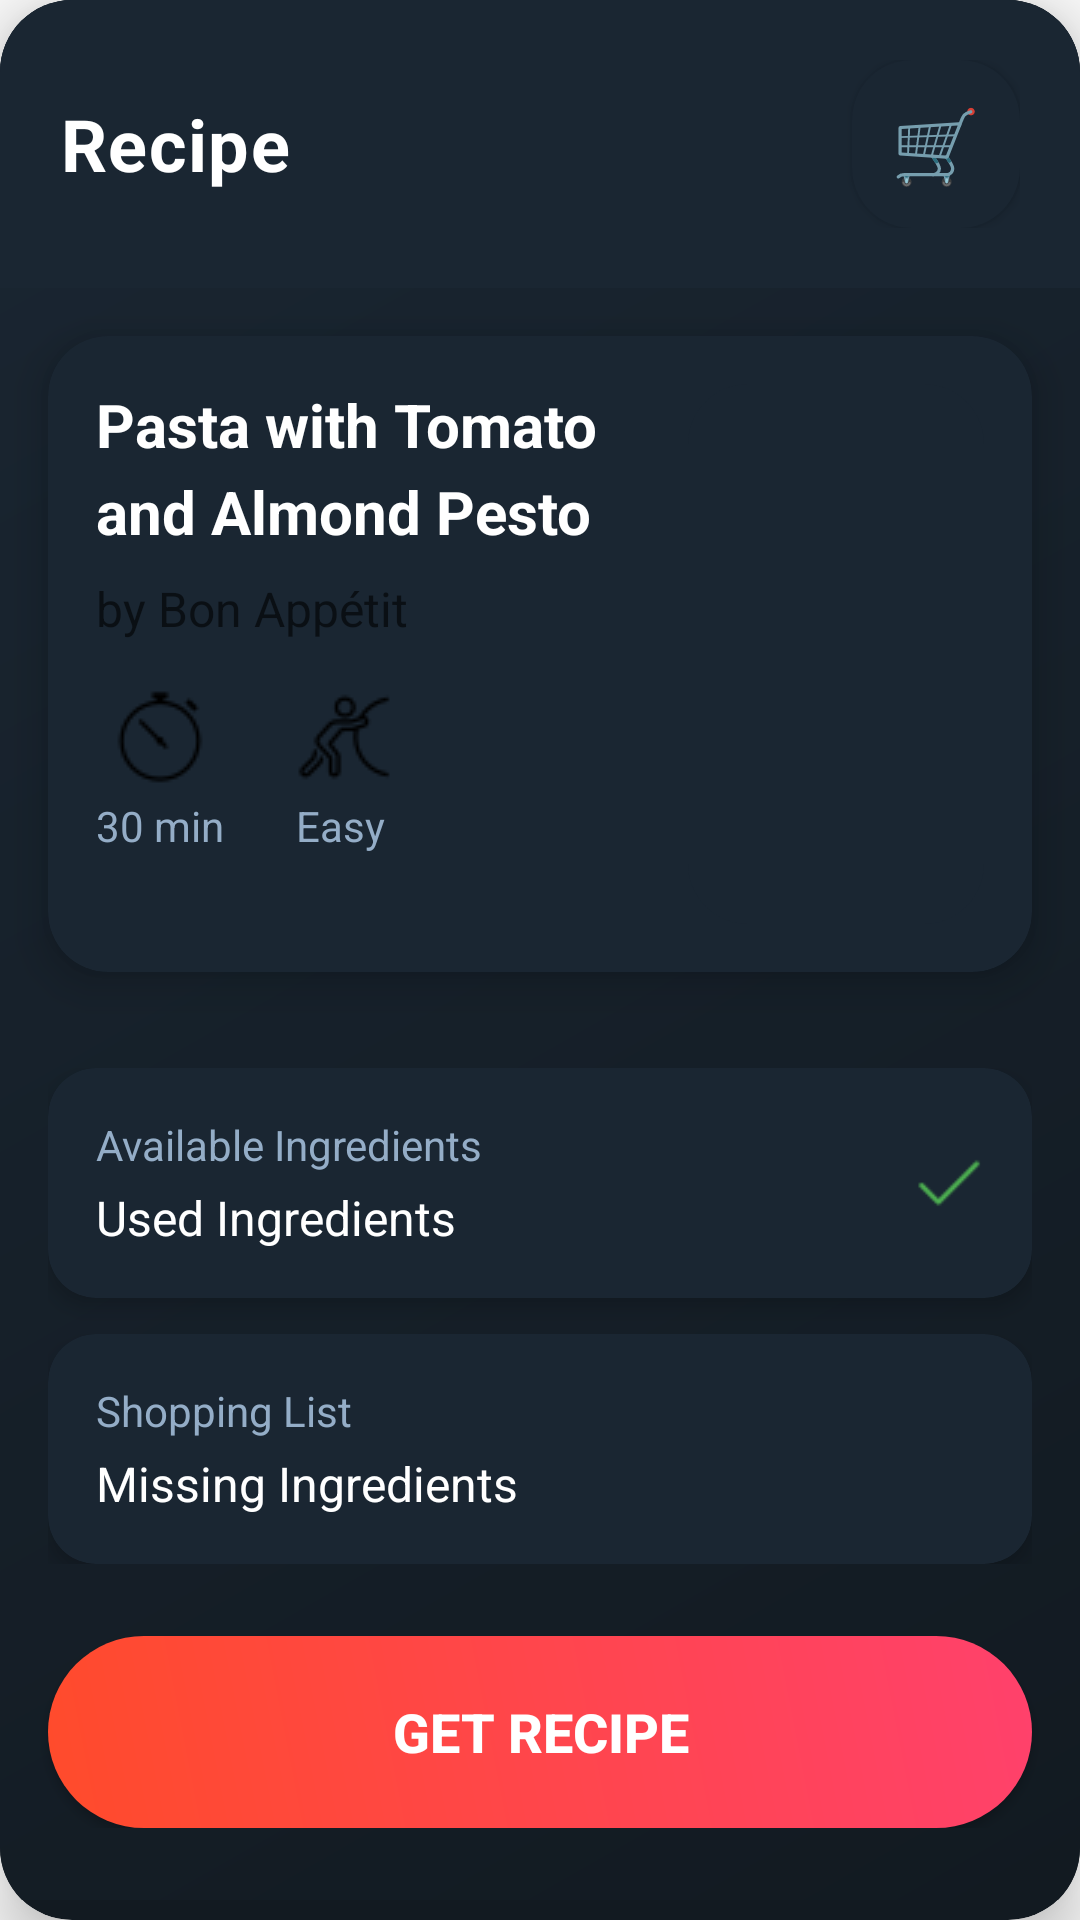

Screen size 1080px x 1920px. Icon name, then its box in pixels as (x1, y1, x2, y2):
check: (918, 1160, 980, 1206)
